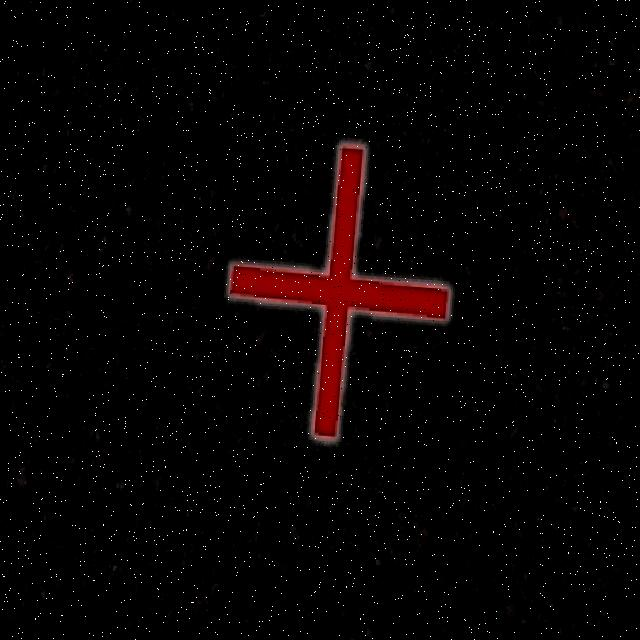x_marker: (219, 136, 457, 444)
